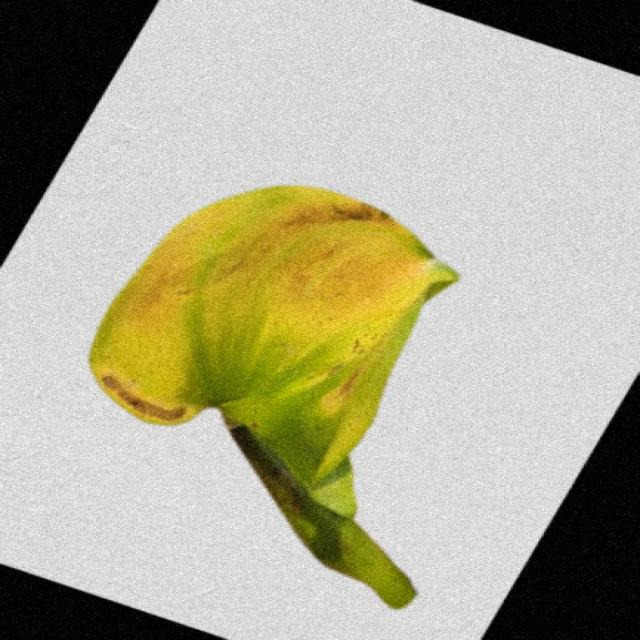daun berpenyakit kuning: (90, 188, 458, 608)
